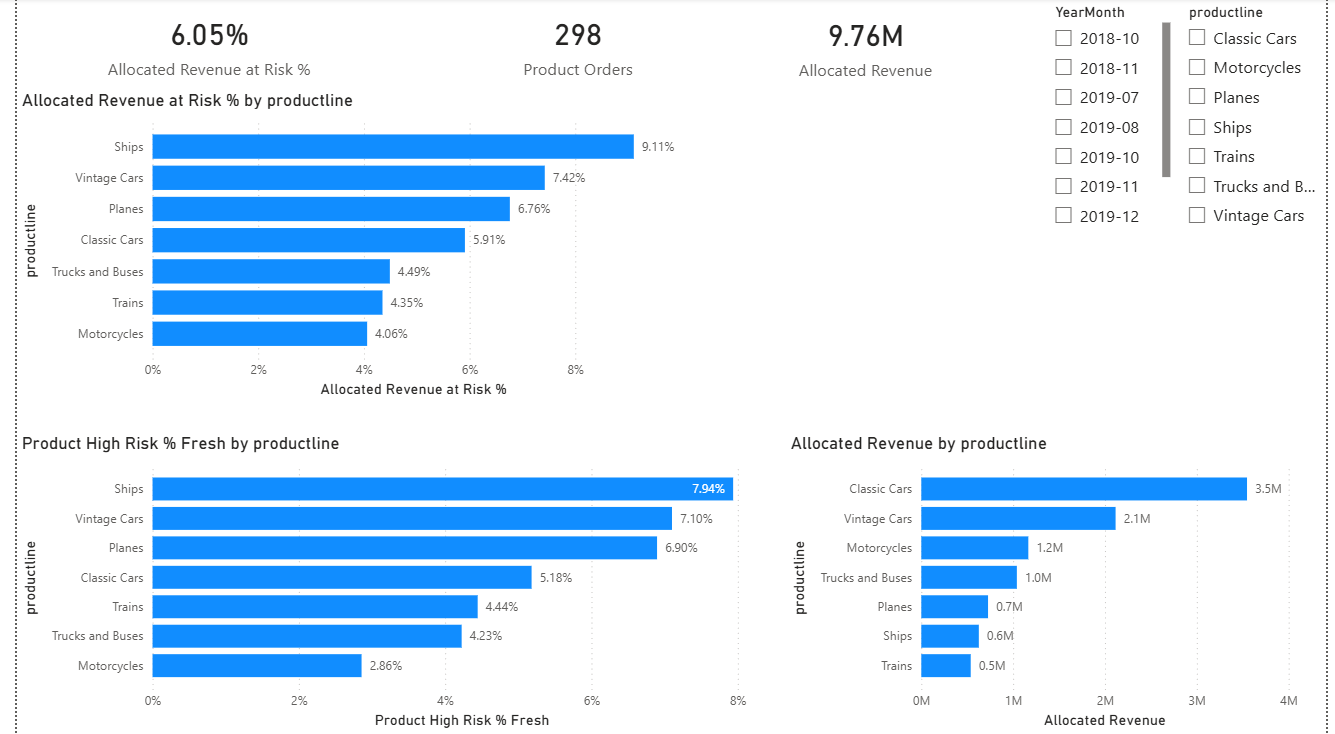

What the dashboard file says about the page in this screenshot:
{"tool":"powerbi","page":{"name":"Product/Revenue at Risk","canvas":[1280,720],"ordinal":3},"visuals":[{"type":"slicer","fields":{"Values":["DimDate.YearMonth"]},"box":[1002.7,0,130.8,238.5],"z":0},{"type":"slicer","fields":{"Values":["dim_productline.productline"]},"box":[1133.6,0,146.7,238.5],"z":1000},{"type":"card","fields":{"Values":["_Measures.Product Orders"]},"box":[346.1,0,406,89.3],"z":2000},{"type":"card","fields":{"Values":["_Measures.Allocated Revenue"]},"box":[657.9,1.2,344.8,89.3],"z":3000},{"type":"card","fields":{"Values":["_Measures.Allocated Revenue at Risk %"]},"box":[0,0,376.6,89.3],"z":4000},{"type":"clusteredBarChart","fields":{"Category":["dim_productline.productline"],"Y":["_Measures.Product High Risk % Fresh"]},"box":[0,425.8,752.4,293.9],"z":5000},{"type":"clusteredBarChart","fields":{"Category":["dim_productline.productline"],"Y":["_Measures.Allocated Revenue at Risk %"]},"box":[0,89.3,657.9,306.9],"z":6000},{"type":"clusteredBarChart","fields":{"Category":["dim_productline.productline"],"Y":["_Measures.Allocated Revenue"]},"box":[752.4,425.8,506.2,293.9],"z":7000}]}

Visuals, with their boxes in screenshot pixels (x1, y1, x2, y2), scaled from the page's 1280x720 canvas onto the 1335x734 screenshot:
slicer - DimDate.YearMonth: bbox=[1046, 0, 1182, 243]
slicer - dim_productline.productline: bbox=[1182, 0, 1334, 243]
card - _Measures.Product Orders: bbox=[361, 0, 784, 91]
card - _Measures.Allocated Revenue: bbox=[686, 1, 1046, 92]
card - _Measures.Allocated Revenue at Risk %: bbox=[0, 0, 393, 91]
clusteredBarChart - dim_productline.productline x _Measures.Product High Risk % Fresh: bbox=[0, 434, 785, 733]
clusteredBarChart - dim_productline.productline x _Measures.Allocated Revenue at Risk %: bbox=[0, 91, 686, 404]
clusteredBarChart - dim_productline.productline x _Measures.Allocated Revenue: bbox=[785, 434, 1313, 733]
